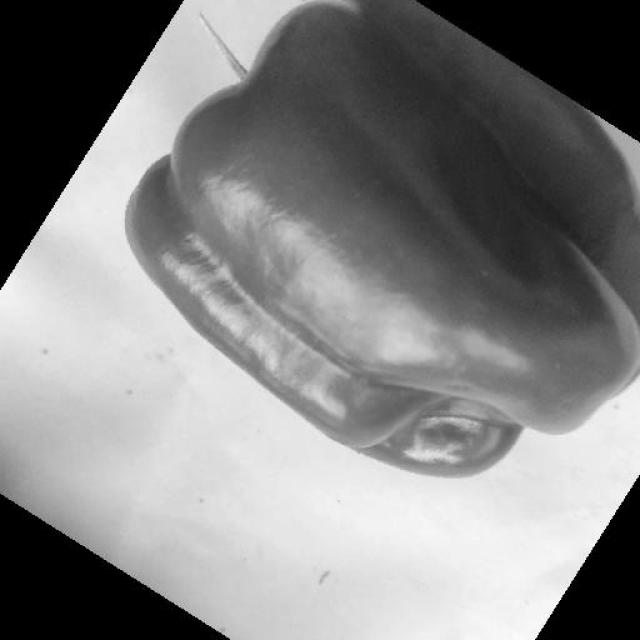Fresh_Capsicum: (129, 0, 639, 468)
